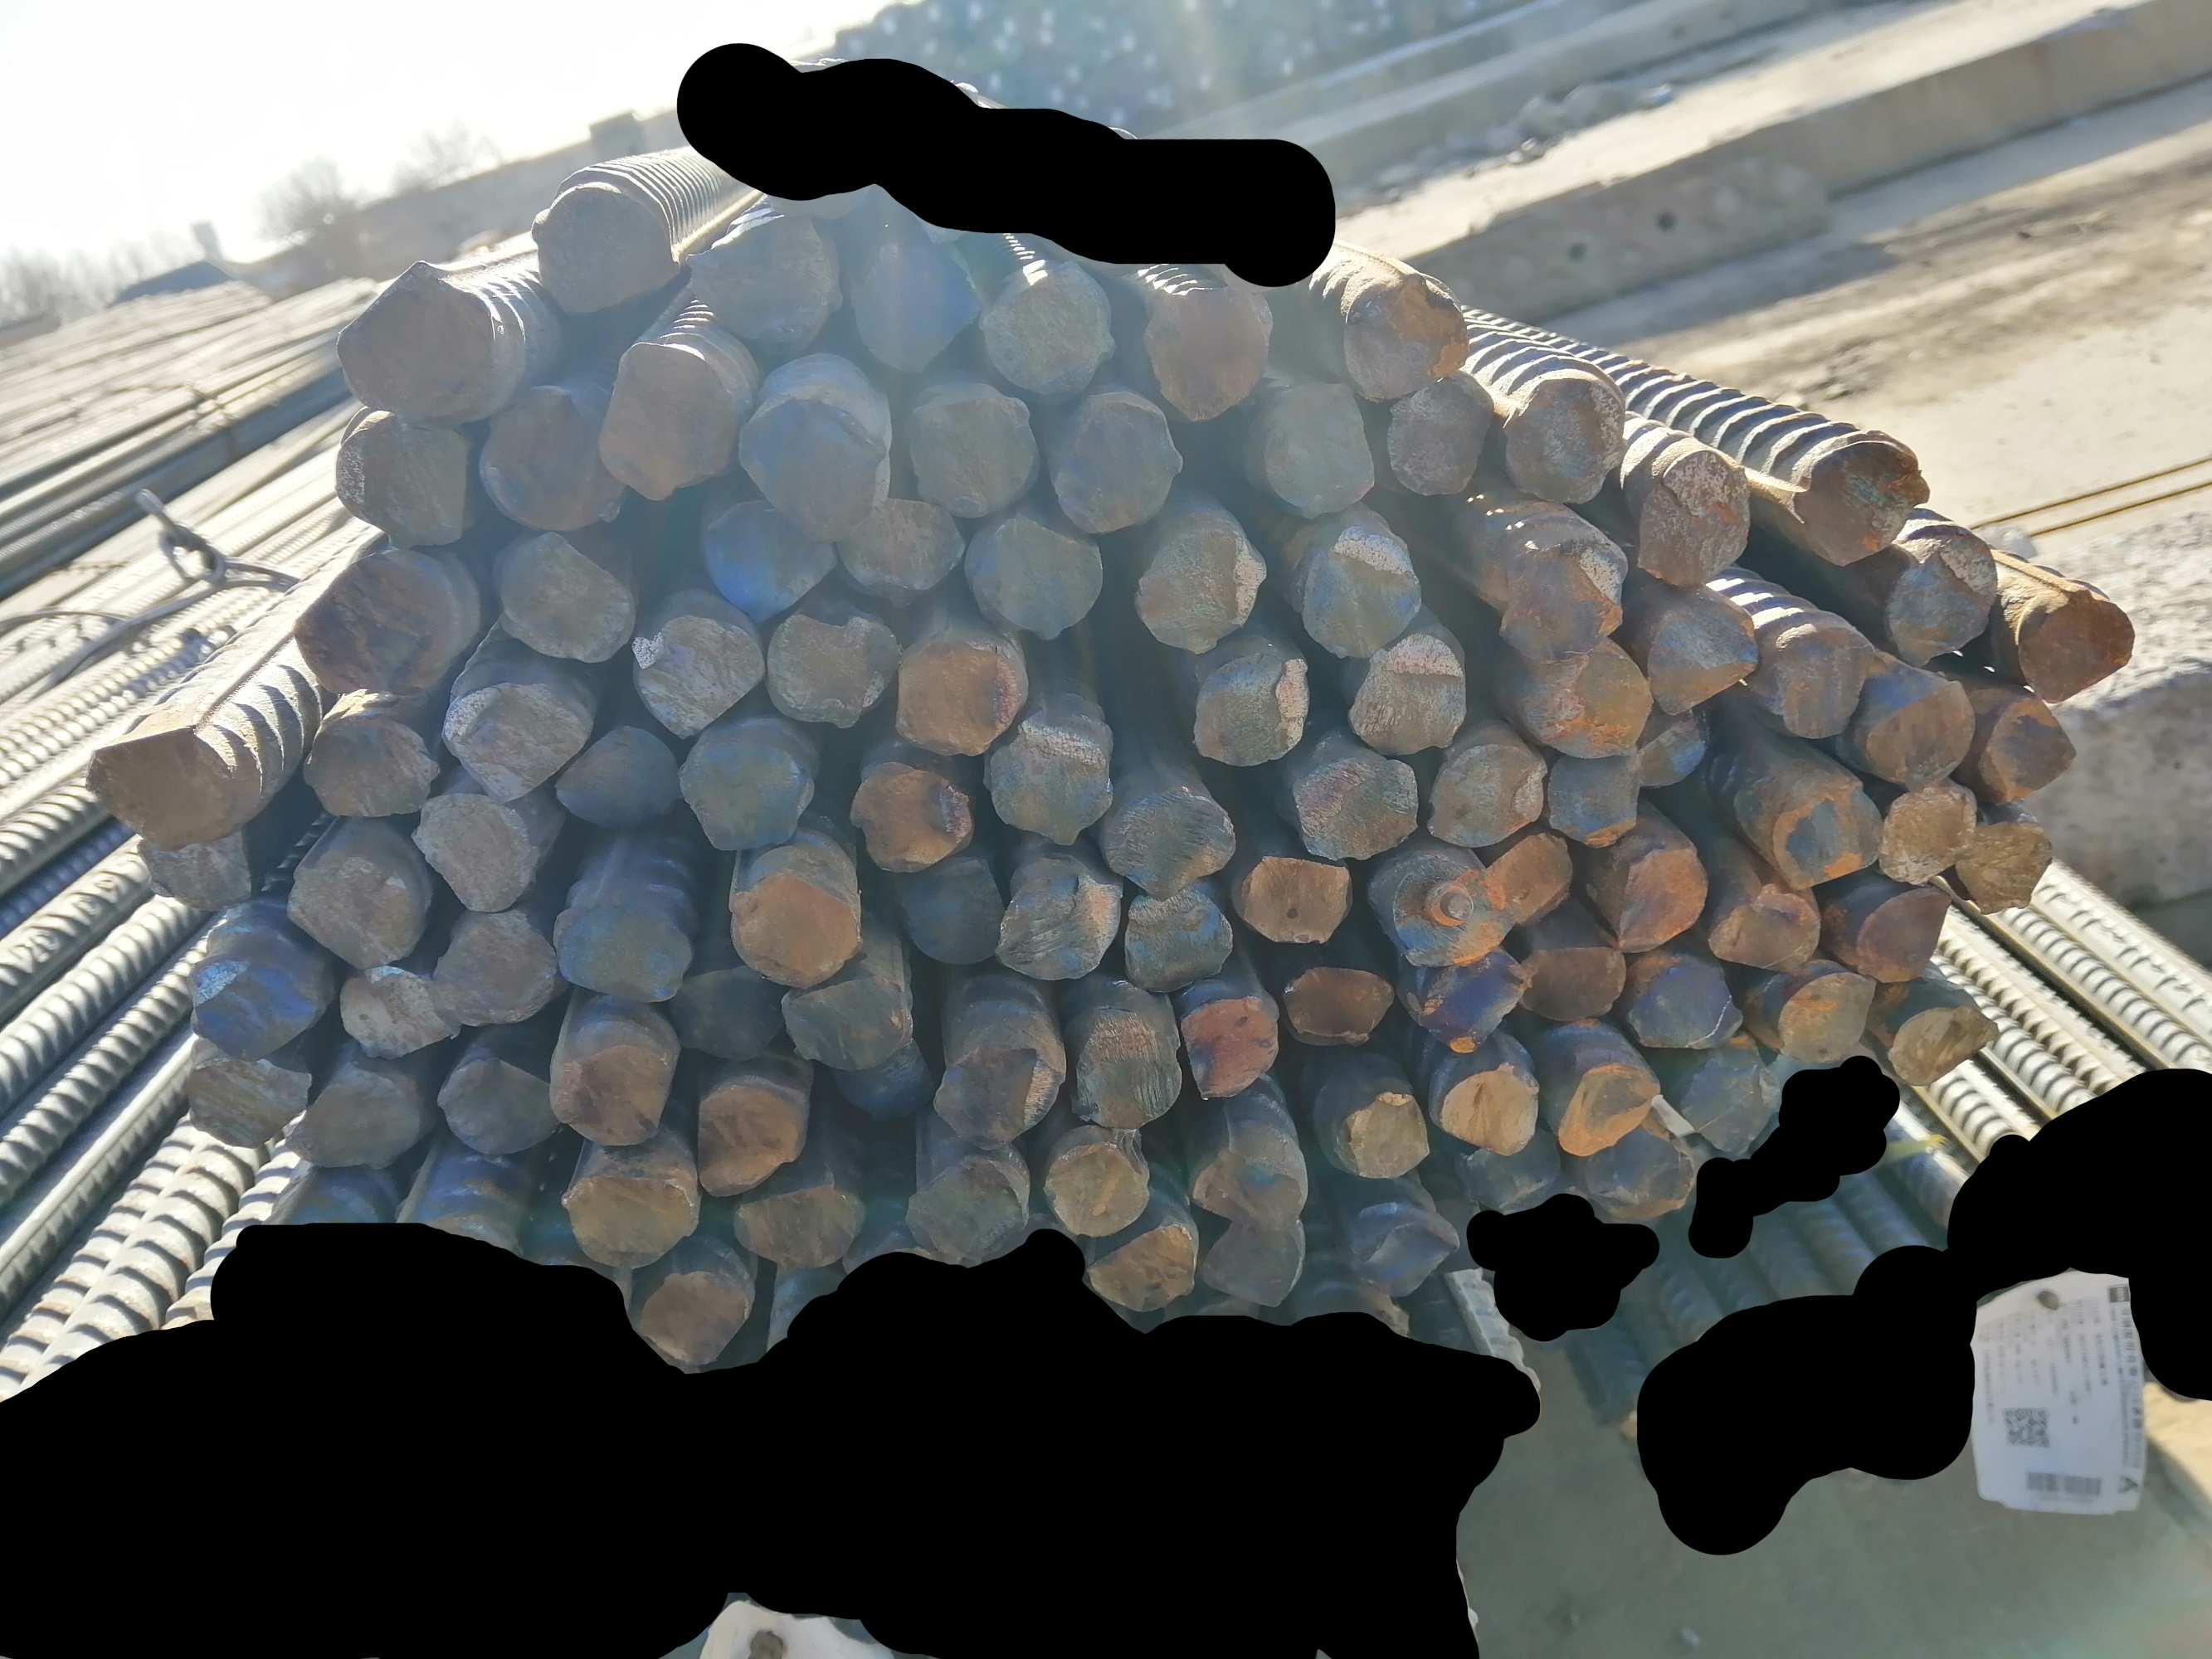rebar: (328, 254, 504, 408), (295, 552, 469, 699), (593, 336, 736, 511), (730, 389, 892, 540), (469, 383, 628, 528), (80, 718, 239, 852), (1137, 279, 1283, 422), (1131, 519, 1274, 664), (523, 179, 673, 317), (690, 218, 845, 350), (329, 410, 474, 549), (1790, 425, 1930, 570), (894, 382, 1044, 516), (967, 270, 1117, 404), (1285, 519, 1428, 657), (1049, 399, 1192, 535), (1342, 263, 1478, 406), (964, 504, 1107, 640), (1091, 772, 1238, 904), (1503, 362, 1632, 512), (1252, 376, 1384, 521), (406, 784, 544, 922), (694, 490, 837, 622), (275, 850, 427, 974), (493, 535, 636, 666), (671, 728, 816, 856), (438, 681, 587, 803), (1184, 638, 1318, 774), (628, 608, 767, 739), (892, 627, 1034, 755), (1879, 528, 2005, 671), (1630, 580, 1752, 725), (851, 239, 980, 375), (1496, 528, 1632, 657), (547, 887, 697, 1004), (1511, 638, 1652, 762), (295, 704, 438, 826), (1630, 450, 1755, 587), (924, 1035, 1065, 1157), (767, 605, 903, 730), (1384, 359, 1503, 502), (183, 945, 328, 1061), (983, 721, 1114, 850), (725, 868, 865, 988), (1344, 627, 1468, 762), (844, 755, 978, 878), (547, 1032, 678, 1154), (776, 965, 922, 1073), (560, 1161, 699, 1274), (427, 910, 560, 1028), (994, 861, 1123, 981), (1372, 850, 1506, 965), (1424, 732, 1555, 849), (284, 1060, 417, 1175), (2015, 584, 2139, 706), (547, 720, 683, 829), (174, 1042, 312, 1150), (1403, 941, 1532, 1056), (690, 1073, 805, 1199), (1117, 882, 1238, 1000), (835, 491, 966, 599), (1771, 767, 1886, 889), (729, 1169, 865, 1272), (622, 1255, 753, 1361), (1293, 749, 1424, 856), (908, 1145, 1023, 1262), (892, 849, 1006, 965), (1072, 1012, 1185, 1127), (1860, 678, 1977, 789), (1316, 1080, 1435, 1190), (1630, 950, 1748, 1060), (1187, 1134, 1309, 1241), (1238, 843, 1360, 950), (1555, 1056, 1672, 1164), (1511, 931, 1630, 1037), (1682, 1040, 1788, 1159), (1428, 1054, 1548, 1159), (1771, 622, 1876, 741), (333, 965, 455, 1066), (438, 1056, 560, 1157), (673, 964, 791, 1066), (1075, 1216, 1204, 1310), (1703, 877, 1825, 976), (1609, 842, 1720, 950), (129, 824, 258, 917), (1041, 1134, 1149, 1243), (1196, 1209, 1307, 1312), (1768, 962, 1879, 1065), (1185, 986, 1283, 1103), (1578, 1133, 1698, 1227), (1848, 882, 1961, 981), (1279, 964, 1398, 1058), (1351, 1194, 1457, 1297), (1471, 826, 1578, 929), (1447, 1126, 1555, 1227), (1985, 694, 2081, 807), (1877, 784, 1980, 889), (1886, 995, 2001, 1084), (1548, 746, 1649, 847), (819, 1032, 929, 1124), (1956, 819, 2055, 917), (1625, 692, 1708, 791)
